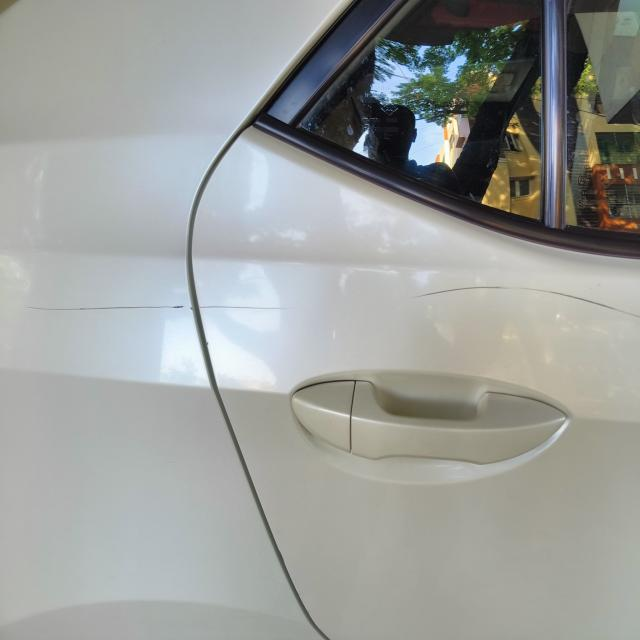scratch: (400, 275, 640, 320), (27, 298, 292, 317)
